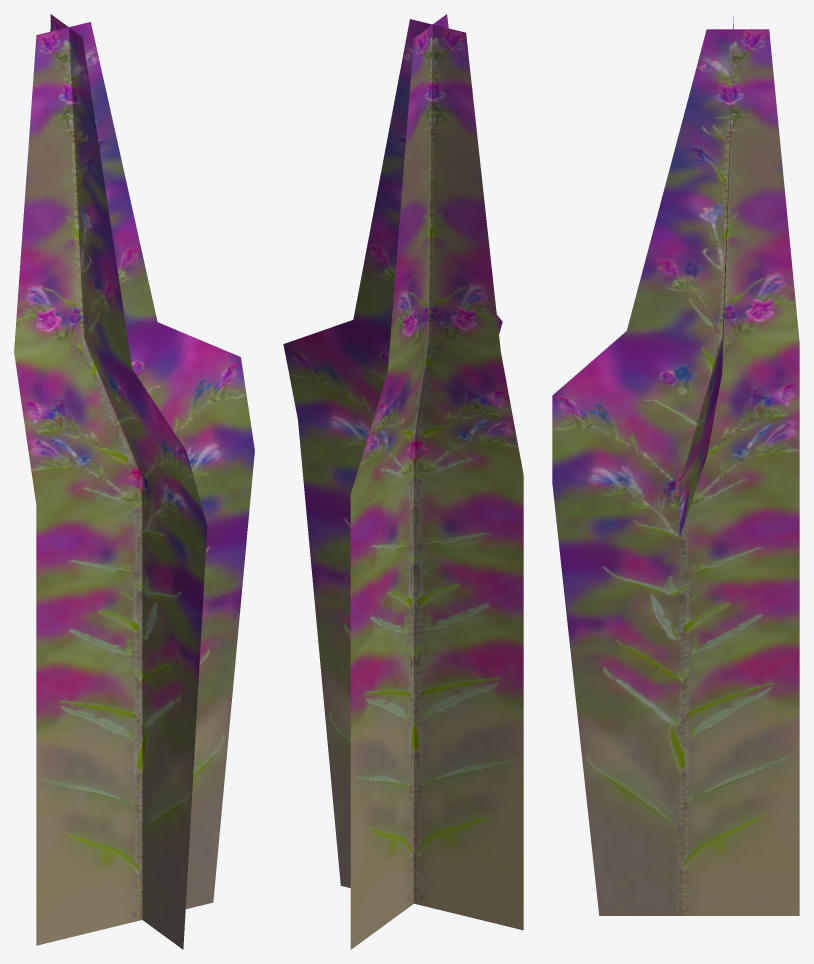
The model's file is Flowering Plant 02 Variant 1.fbx.
3 renders of one model, left to right at view 1: azimuth 30°, elevation 25°; view 2: azimuth 150°, elevation 25°; view 3: azimuth 270°, elevation 25°, orthographic. The views are drawn at different scales.
Visible parts, largest first — view 1: flowering_plant_02_1_LOD0; view 2: flowering_plant_02_1_LOD0; view 3: flowering_plant_02_1_LOD0.
Boxes of the visible parts, x1=… form: flowering_plant_02_1_LOD0: x1=14, y1=14, x2=254, y2=949; flowering_plant_02_1_LOD0: x1=283, y1=14, x2=523, y2=949; flowering_plant_02_1_LOD0: x1=552, y1=16, x2=799, y2=915.
Size of what is drawn, in the model's own units: 39.33 by 152 by 39.33.
Materials: 1 (1 with a texture image).
